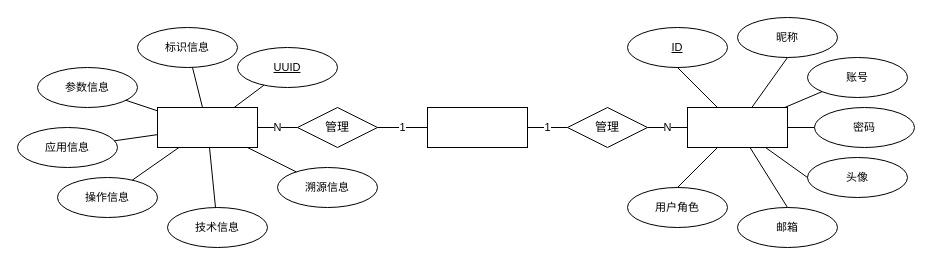
Some shapes in this 932 by 265 pixel diagram are drawn without their labels. The centre of each missing label's shape, as x and y in pixels:
模型: point (207, 127)
用户: point (737, 127)
系统管理员: point (477, 127)
